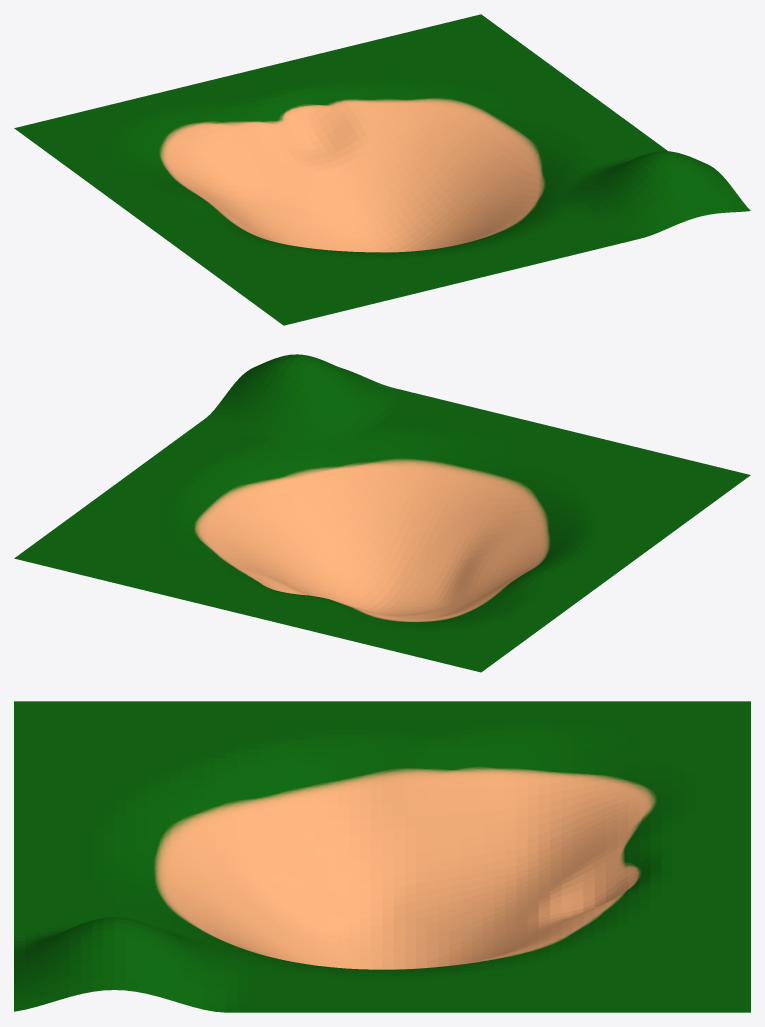
3 views of the same model, one above another, from view 1: azimuth 30°, elevation 25°; view 2: azimuth 150°, elevation 25°; view 3: azimuth 270°, elevation 25° (orthographic). The views are drawn at different scales.
Parts seen in each view (by area): view 1: 平面; view 2: 平面; view 3: 平面.
Part boxes in pixels (<box>): 平面: <box>14,14,750,325</box>; 平面: <box>14,354,750,672</box>; 平面: <box>14,701,750,1012</box>.
Bounding box in the file's own units: 200 × 53.93 × 200.
1 material, 1 textured.
